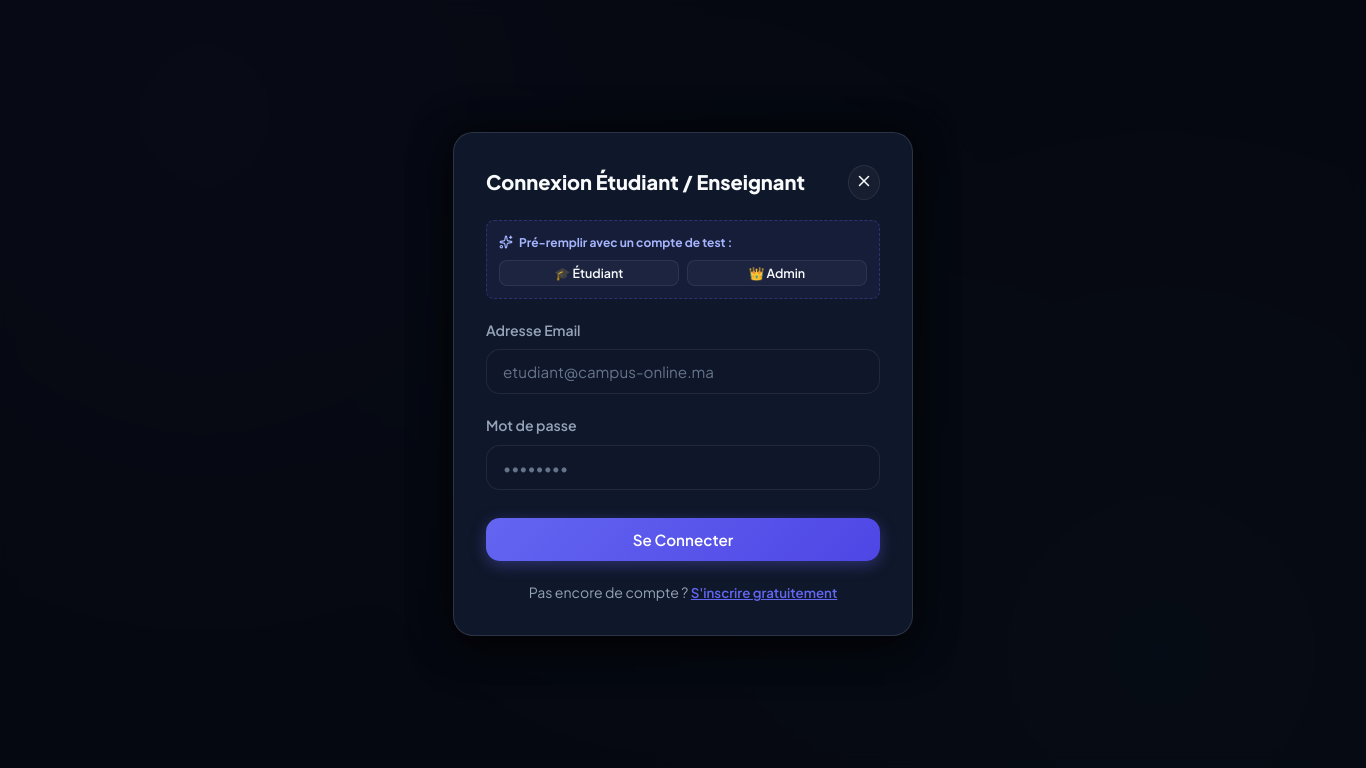
Test: Unit Tests - Component AuthModal › TC-FE-AUTH-03 : Permet de basculer en mode inscription
Click the button "S'inscrire gratuitement" at (764, 592), box [691, 584, 837, 601]
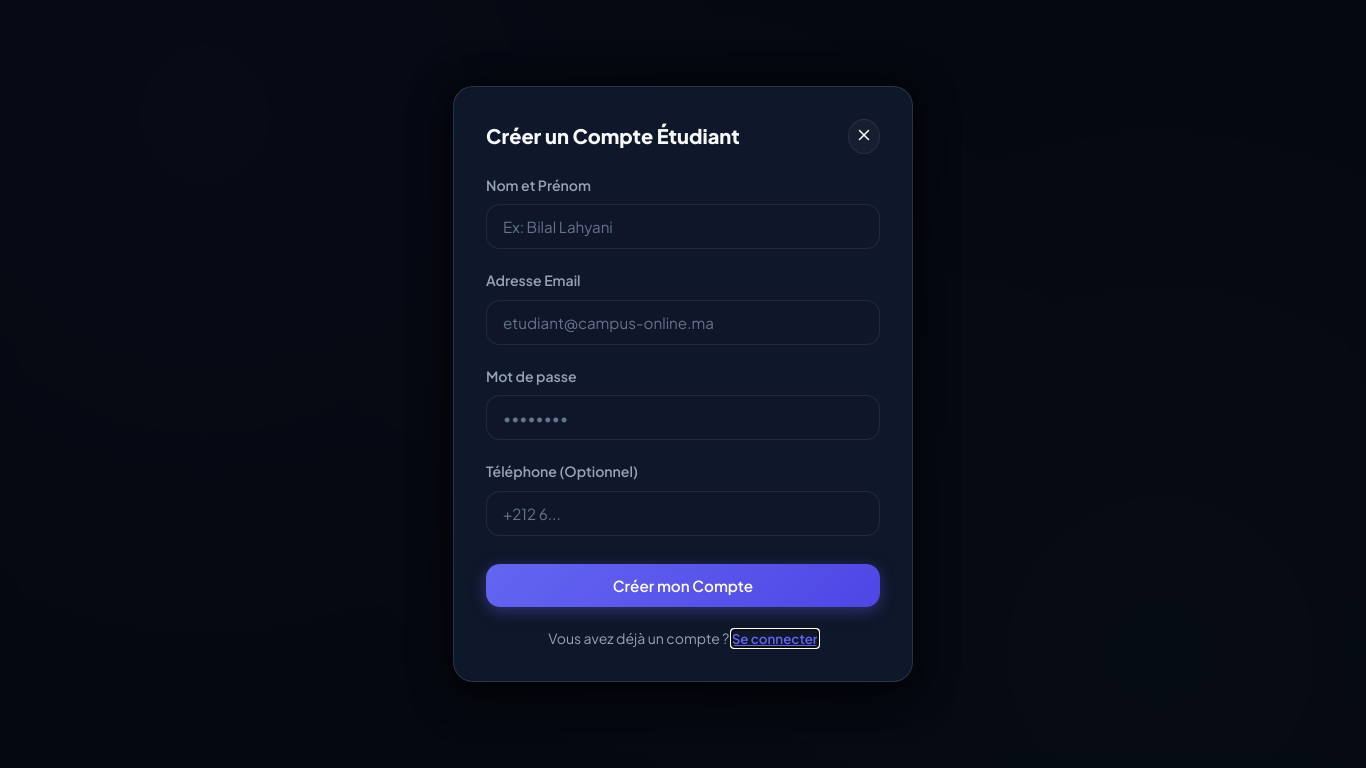
Expected: the heading reads "Créer un Compte Étudiant", [486, 123, 740, 148]
Expected: the field with placeholder "Ex: Bilal Lahyani" is shown, [486, 204, 880, 249]
